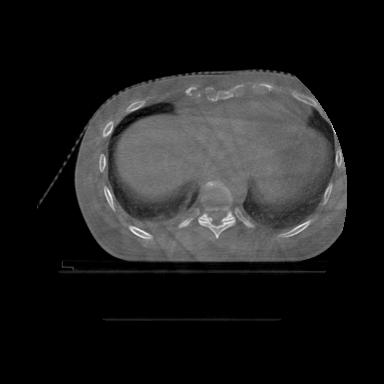body: (75, 70, 346, 261)
cord: (198, 181, 236, 239)
paru kanan: (106, 100, 197, 216)
paru kiri: (245, 111, 341, 235)
